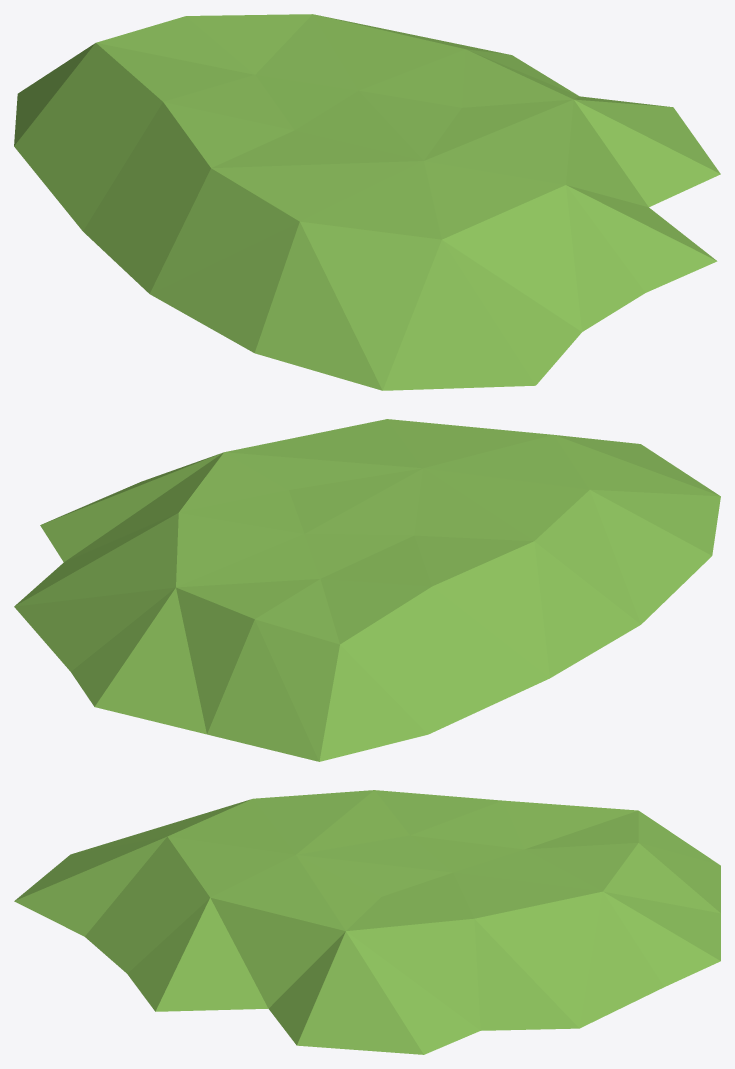
Rendered from MT_Mountain_S_b_02.fbx.
The picture shows the model from 3 angles, top to bottom: view 1: azimuth 30°, elevation 25°; view 2: azimuth 150°, elevation 25°; view 3: azimuth 270°, elevation 25°; orthographic projection. The views are drawn at different scales.
Visible parts, largest first — view 1: MT_Mountain_S_b_02; view 2: MT_Mountain_S_b_02; view 3: MT_Mountain_S_b_02.
Part boxes in pixels (left/top/right/bottom): MT_Mountain_S_b_02: left=14, top=14, right=720, bottom=390; MT_Mountain_S_b_02: left=14, top=419, right=720, bottom=761; MT_Mountain_S_b_02: left=14, top=790, right=720, bottom=1054.
Size of the model in its own units: 1508 by 221 by 1934.
